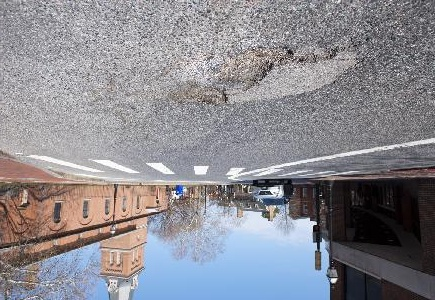pothole: (221, 41, 297, 88), (166, 82, 230, 108)
